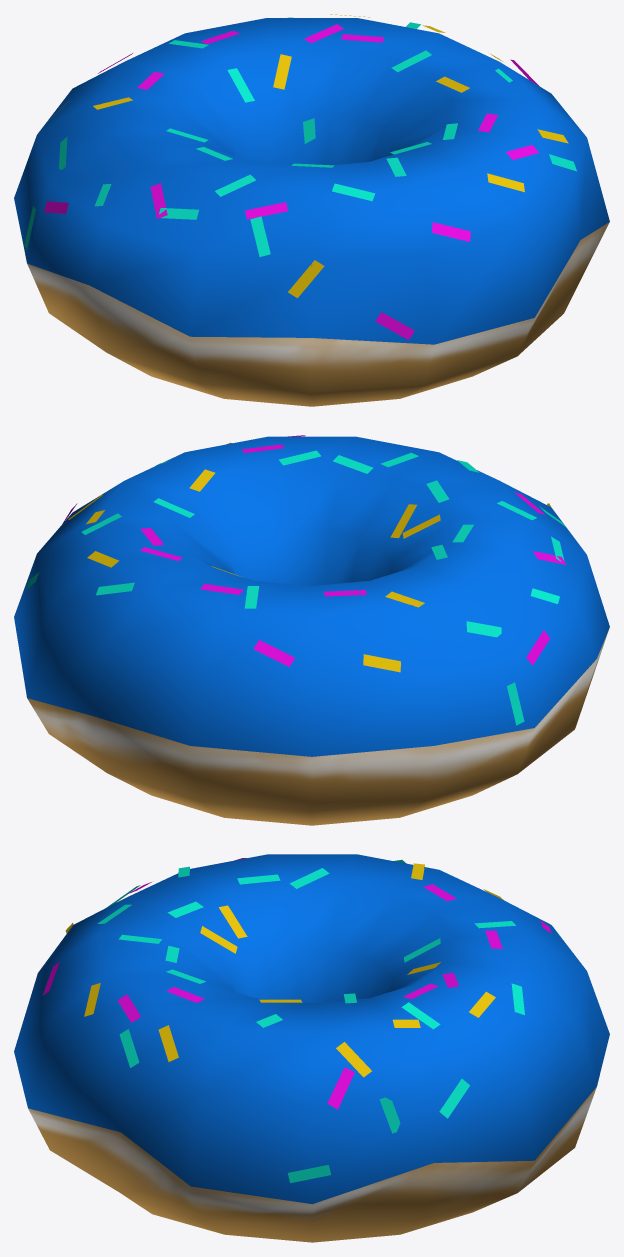
Rendered from tinyfile_donut.glb.
3 views of the same model, one above another, from view 1: azimuth 30°, elevation 25°; view 2: azimuth 150°, elevation 25°; view 3: azimuth 270°, elevation 25° (orthographic).
Parts seen in each view (by area): view 1: Plane.015; view 2: Plane.015; view 3: Plane.015.
Part boxes in pixels (bbox=[...]): Plane.015: bbox=[14, 14, 609, 406]; Plane.015: bbox=[14, 435, 609, 825]; Plane.015: bbox=[14, 854, 609, 1242].
Size of the model in its own units: 2.55 by 1.08 by 2.67.
Materials: 5 (1 with a texture image).
